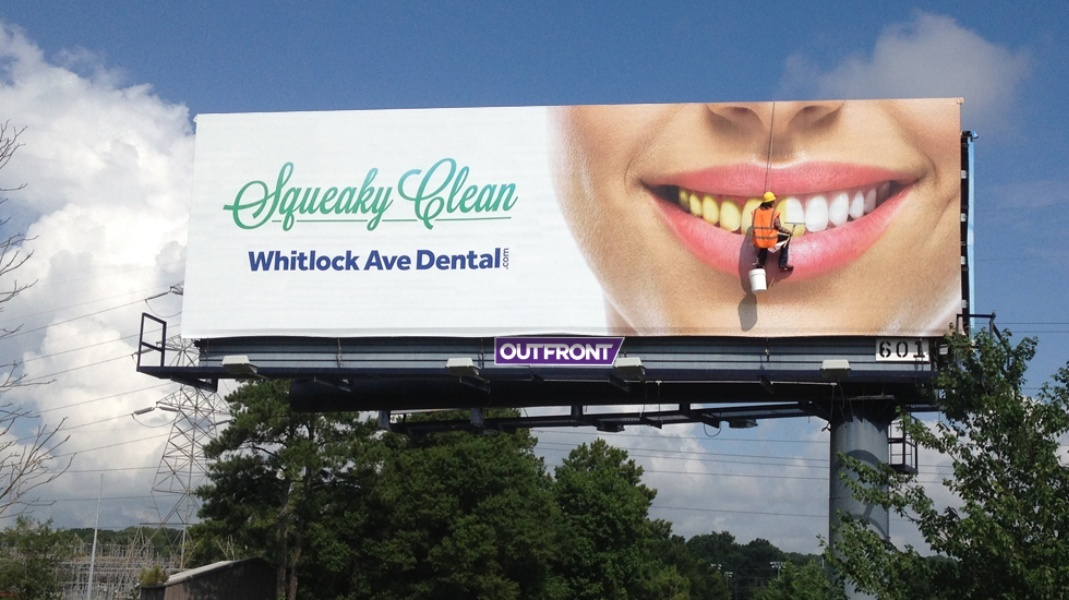text: (401, 158, 416, 232), (417, 158, 432, 232), (433, 158, 448, 232), (449, 158, 464, 232), (465, 158, 480, 232), (481, 158, 496, 232), (497, 158, 512, 232), (241, 161, 256, 233), (257, 161, 272, 233), (273, 161, 288, 233), (289, 161, 304, 233), (305, 161, 320, 233), (321, 161, 336, 233), (337, 161, 352, 233), (353, 161, 368, 233), (369, 161, 384, 233), (226, 161, 240, 233), (385, 161, 395, 233), (513, 158, 522, 232), (257, 249, 272, 272), (273, 249, 288, 272), (289, 249, 304, 272), (305, 249, 320, 272), (321, 249, 336, 272), (337, 249, 352, 272), (417, 247, 432, 270), (433, 247, 448, 270), (449, 247, 464, 270), (465, 247, 480, 270), (481, 247, 496, 270), (385, 249, 400, 271), (370, 249, 384, 271), (881, 339, 896, 359), (897, 339, 912, 359), (913, 339, 927, 359), (513, 343, 528, 361), (529, 343, 544, 361), (545, 343, 560, 361), (561, 343, 576, 361), (577, 343, 592, 361), (593, 343, 608, 361), (401, 249, 412, 271), (502, 246, 512, 270), (499, 343, 512, 361), (353, 249, 362, 272), (248, 249, 256, 272), (398, 158, 400, 232), (497, 247, 501, 270), (609, 343, 614, 361)
